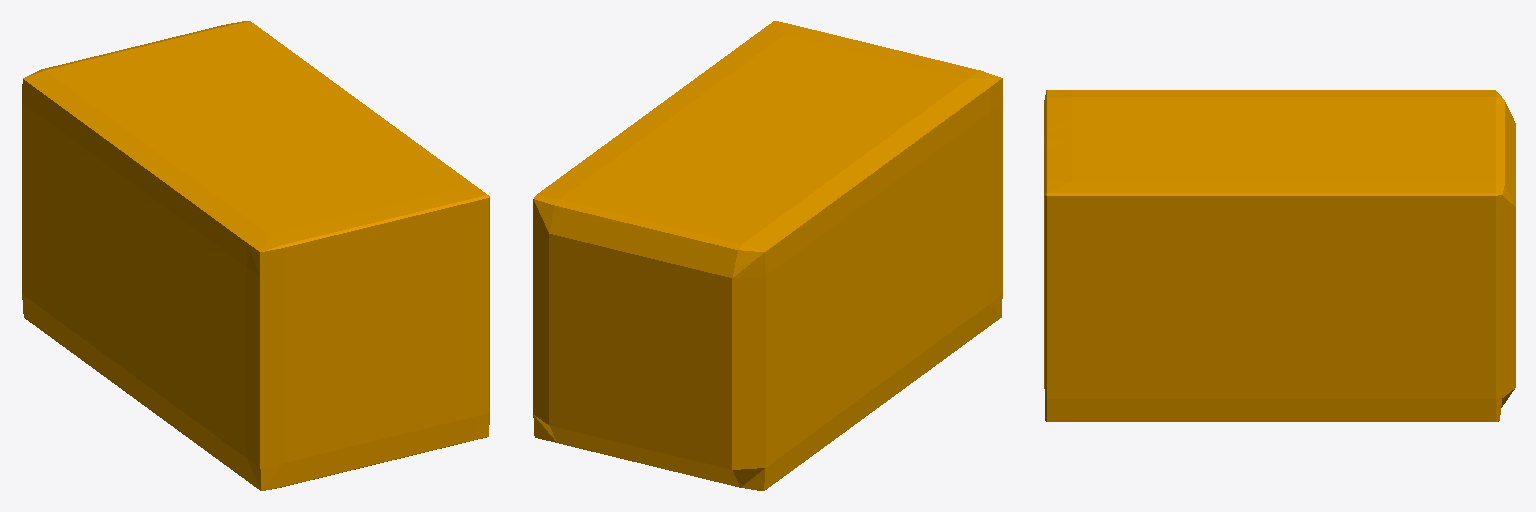
URDF robot description (cylinder_box_26):
<?xml version="1.0" encoding="utf-8"?>  <robot name="cylinder_box_26">   <link name="cylinder_box_26">     <visual>       <geometry>         <mesh filename="../meshes/box/box_26.stl" scale="1 1 1"/>       </geometry>     </visual>     <collision>       <geometry>         <mesh filename="../meshes/box/box_26.stl" scale="1 1 1"/>       </geometry>     </collision>     <inertial>        <origin         xyz="0 0 0"         rpy="0 0 0" />       <mass value="0.23916238369322182"/>       <origin rpy="0 0 0" xyz="0 0 0"/>       <inertia ixx="0.00022602000454214727" ixy="-3.493154727381259e-08" ixz="-1.0582732315115038e-08" iyy="0.0001010641450210392" iyz="-9.12442994571088e-08" izz="0.0002251099603545399"/>     </inertial>   </link>  </robot>

--- Facts derived from the render (not from the file) ---
Views: 3 orthographic renders of the robot side by side, from view 1: azimuth 30°, elevation 25°; view 2: azimuth 150°, elevation 25°; view 3: azimuth 270°, elevation 25°.
Model cylinder_box_26 with 1 links and 0 joints (none), rooted at cylinder_box_26, posed all joints at 0.
Links seen in each view (by area): view 1: cylinder_box_26; view 2: cylinder_box_26; view 3: cylinder_box_26.
Boxes of the visible links, bbox=[...] form: cylinder_box_26: bbox=[22, 21, 489, 490]; cylinder_box_26: bbox=[533, 21, 1002, 490]; cylinder_box_26: bbox=[1044, 90, 1515, 421].
Bounding box of the posed robot: 0.0504 × 0.0944 × 0.0508 m (x, y, z).
Meshes: 1 distinct files referenced, 1 mesh visuals loaded (1 binary STL).